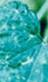Tomato leaf mosaic virus: (0, 8, 48, 82)
